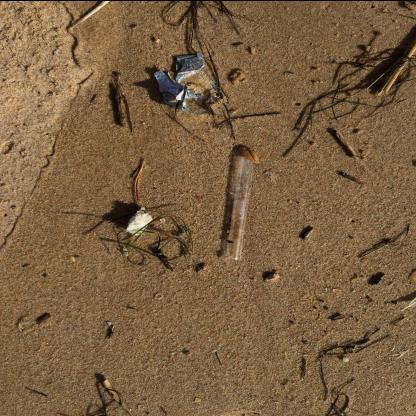kopuk: (126, 206, 152, 234)
plastik: (153, 51, 225, 113)
